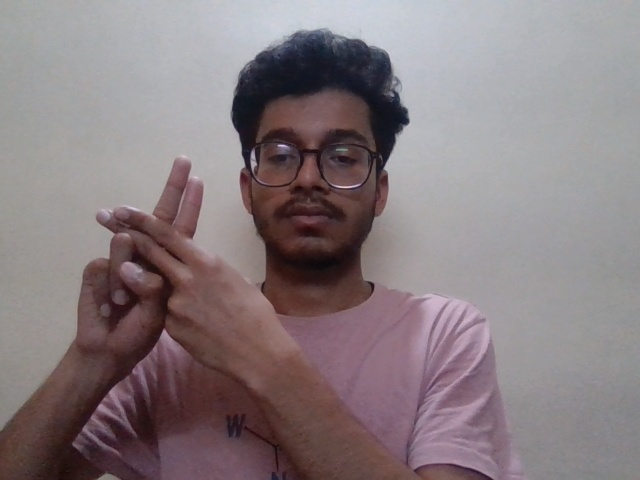disabled: (62, 148, 296, 398)
